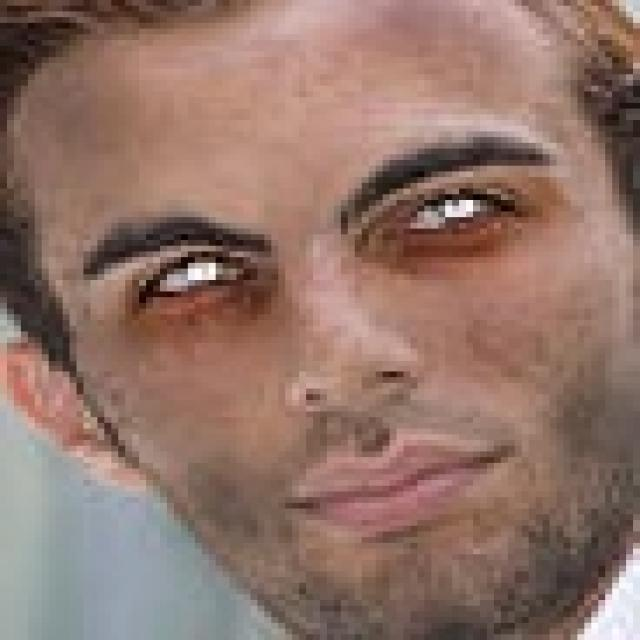Anxiety: (8, 0, 633, 634)
